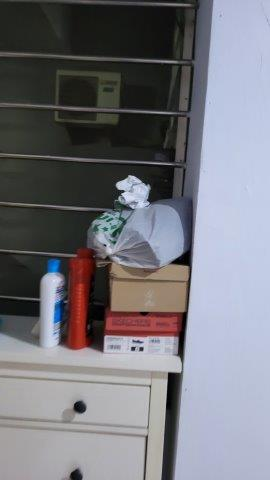kertas: (113, 174, 153, 212)
plastik: (92, 204, 196, 267)
